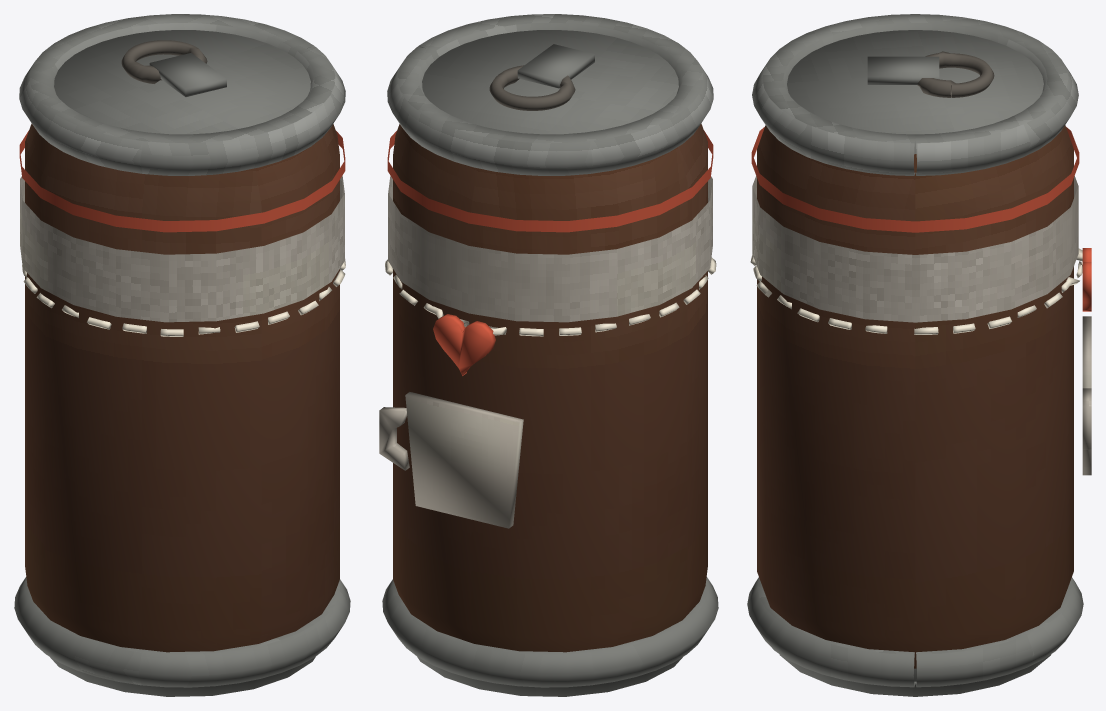
Rendered from can_cocoa.glb.
The picture shows the model from 3 angles, left to right: view 1: azimuth 30°, elevation 25°; view 2: azimuth 150°, elevation 25°; view 3: azimuth 270°, elevation 25°; orthographic projection.
Parts seen in each view (by area): view 1: can_cocoa_felt_brown, can_cocoa_felt_tin, can_cocoa_felt_cream, can_cocoa_felt_red, can_cocoa_thread, can_cocoa_thread_dark; view 2: can_cocoa_felt_brown, can_cocoa_felt_tin, can_cocoa_felt_cream, can_cocoa_felt_red, can_cocoa_thread_dark, can_cocoa_thread; view 3: can_cocoa_felt_brown, can_cocoa_felt_tin, can_cocoa_felt_cream, can_cocoa_felt_red, can_cocoa_thread_dark, can_cocoa_thread.
Boxes of the visible parts, x1,y1,x2,y2 form: can_cocoa_felt_brown: (25,123,339,652); can_cocoa_felt_tin: (14,14,350,696); can_cocoa_felt_cream: (20,175,344,322); can_cocoa_felt_red: (19,130,345,232); can_cocoa_thread: (22,259,345,336); can_cocoa_thread_dark: (121,40,207,83); can_cocoa_felt_brown: (393,123,707,652); can_cocoa_felt_tin: (382,14,718,696); can_cocoa_felt_cream: (379,175,712,528); can_cocoa_felt_red: (387,130,713,375); can_cocoa_thread_dark: (489,65,575,110); can_cocoa_thread: (385,257,716,336); can_cocoa_felt_brown: (757,125,1073,668); can_cocoa_felt_tin: (747,14,1083,696); can_cocoa_felt_cream: (752,176,1091,475); can_cocoa_felt_red: (751,127,1091,311); can_cocoa_thread_dark: (917,51,994,97); can_cocoa_thread: (750,248,1082,334).
Size of the model in its own units: 0.0844 by 0.1579 by 0.0865.
Materials: 6 (3 with a texture image).
